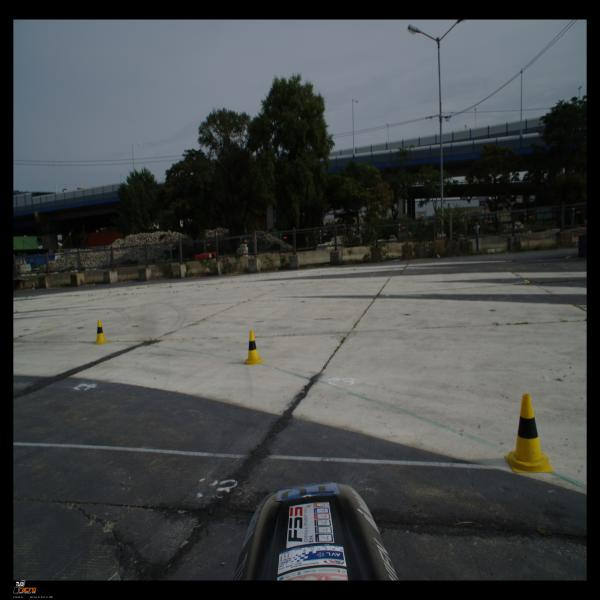yellow_cone: (504, 394, 554, 472), (244, 330, 264, 366), (93, 320, 109, 344)
